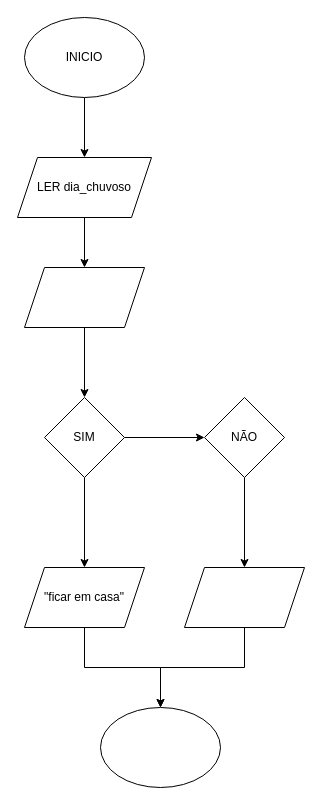
Some shapes in this 322 by 805 pixel diagram are drawn without their labels. The shapes that lost their labels are listed below. From the top down, each one's centre as x and y in pixels, then its label:
pixel 84 297: dia_chuvoso== "chovendo"
pixel 244 597: "ir ao parque"
pixel 160 747: FIM
